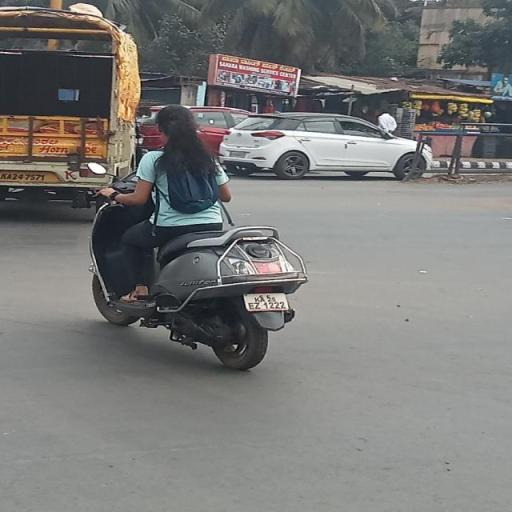bike: (77, 101, 319, 372)
numberplate: (244, 292, 290, 312)
withouthelmet: (157, 106, 198, 136)
